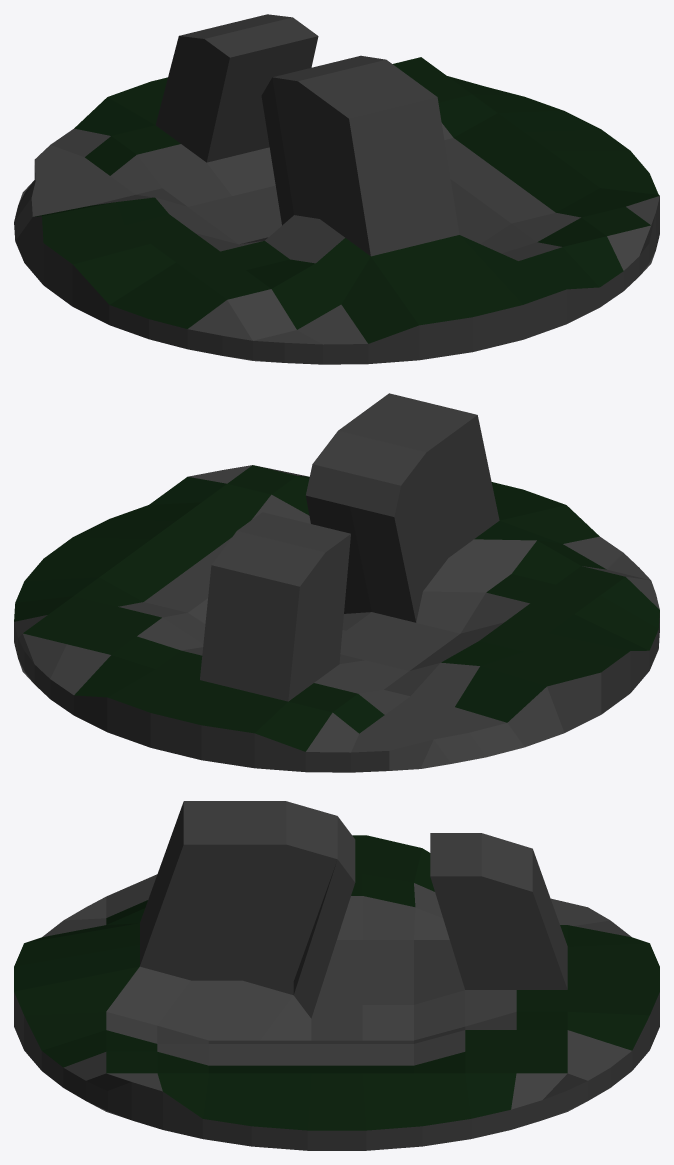
The model's file is ground_lvl_5.obj.
The picture shows the model from 3 angles, top to bottom: view 1: azimuth 30°, elevation 25°; view 2: azimuth 150°, elevation 25°; view 3: azimuth 270°, elevation 25°; orthographic projection.
Visible parts, largest first — view 1: Plane.001; view 2: Plane.001; view 3: Plane.001.
Boxes of the visible parts, left/top/right/bottom form: Plane.001: left=14, top=14, right=659, bottom=364; Plane.001: left=14, top=393, right=659, bottom=772; Plane.001: left=14, top=801, right=659, bottom=1150.
Size of the model in its own units: 113 by 35.04 by 113.
